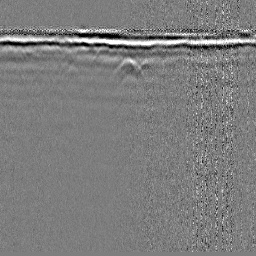cavity: (109, 55, 145, 80)
